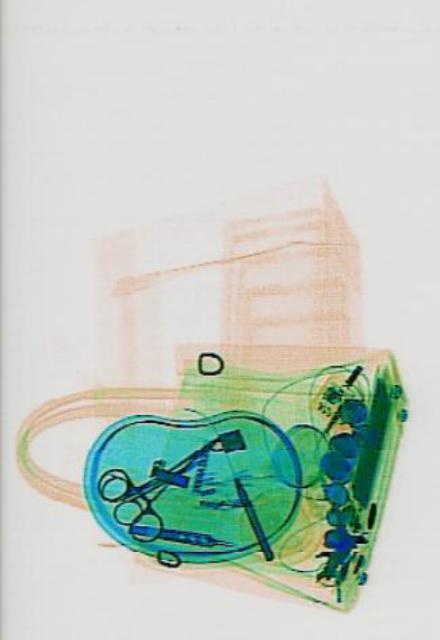Scissors: (91, 398, 237, 556), (91, 424, 206, 534)
